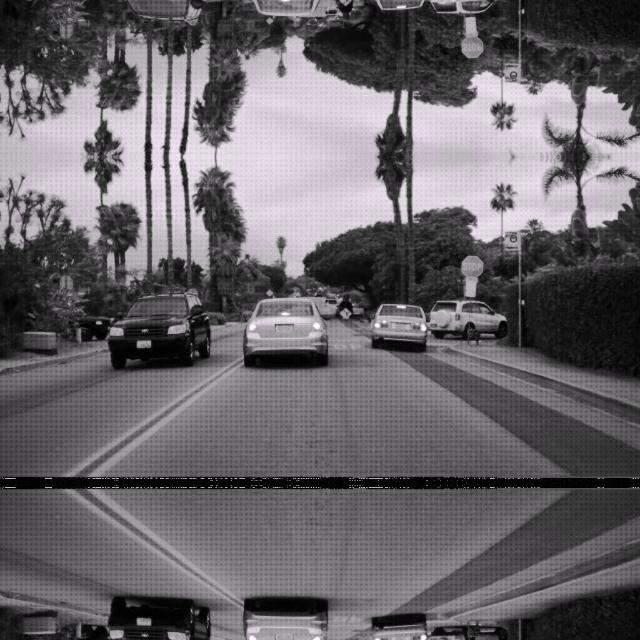stop: (461, 254, 484, 276), (461, 36, 484, 58)
